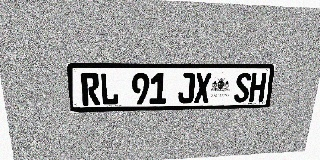1: (150, 73, 167, 104)
9: (132, 73, 149, 105)
H: (249, 73, 267, 102)
J: (178, 73, 195, 104)
L: (100, 73, 119, 105)
R: (80, 73, 101, 106)
S: (234, 73, 252, 102)
X: (194, 73, 212, 103)
